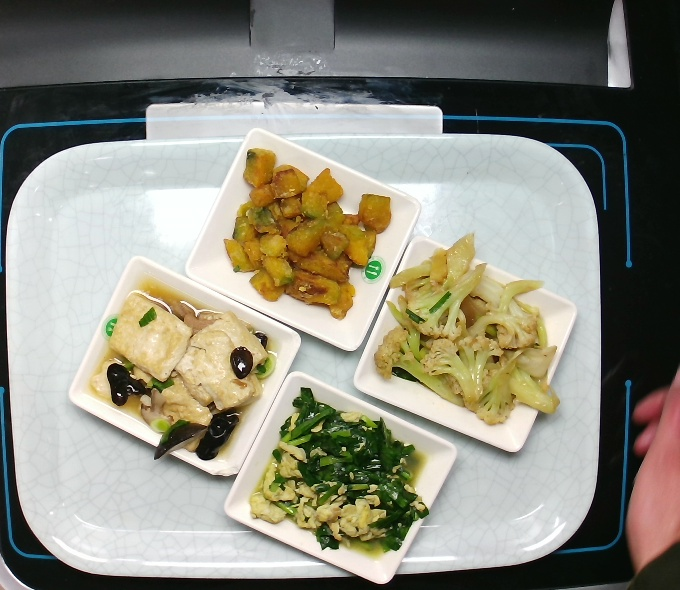wcq-DanHuangNanGua: (217, 136, 396, 323)
wcq-JiaChangDouFu: (97, 281, 276, 468)
wcq-JiuCaiJiDan: (251, 384, 430, 571)
wcq-QiuCai: (367, 234, 570, 431)
